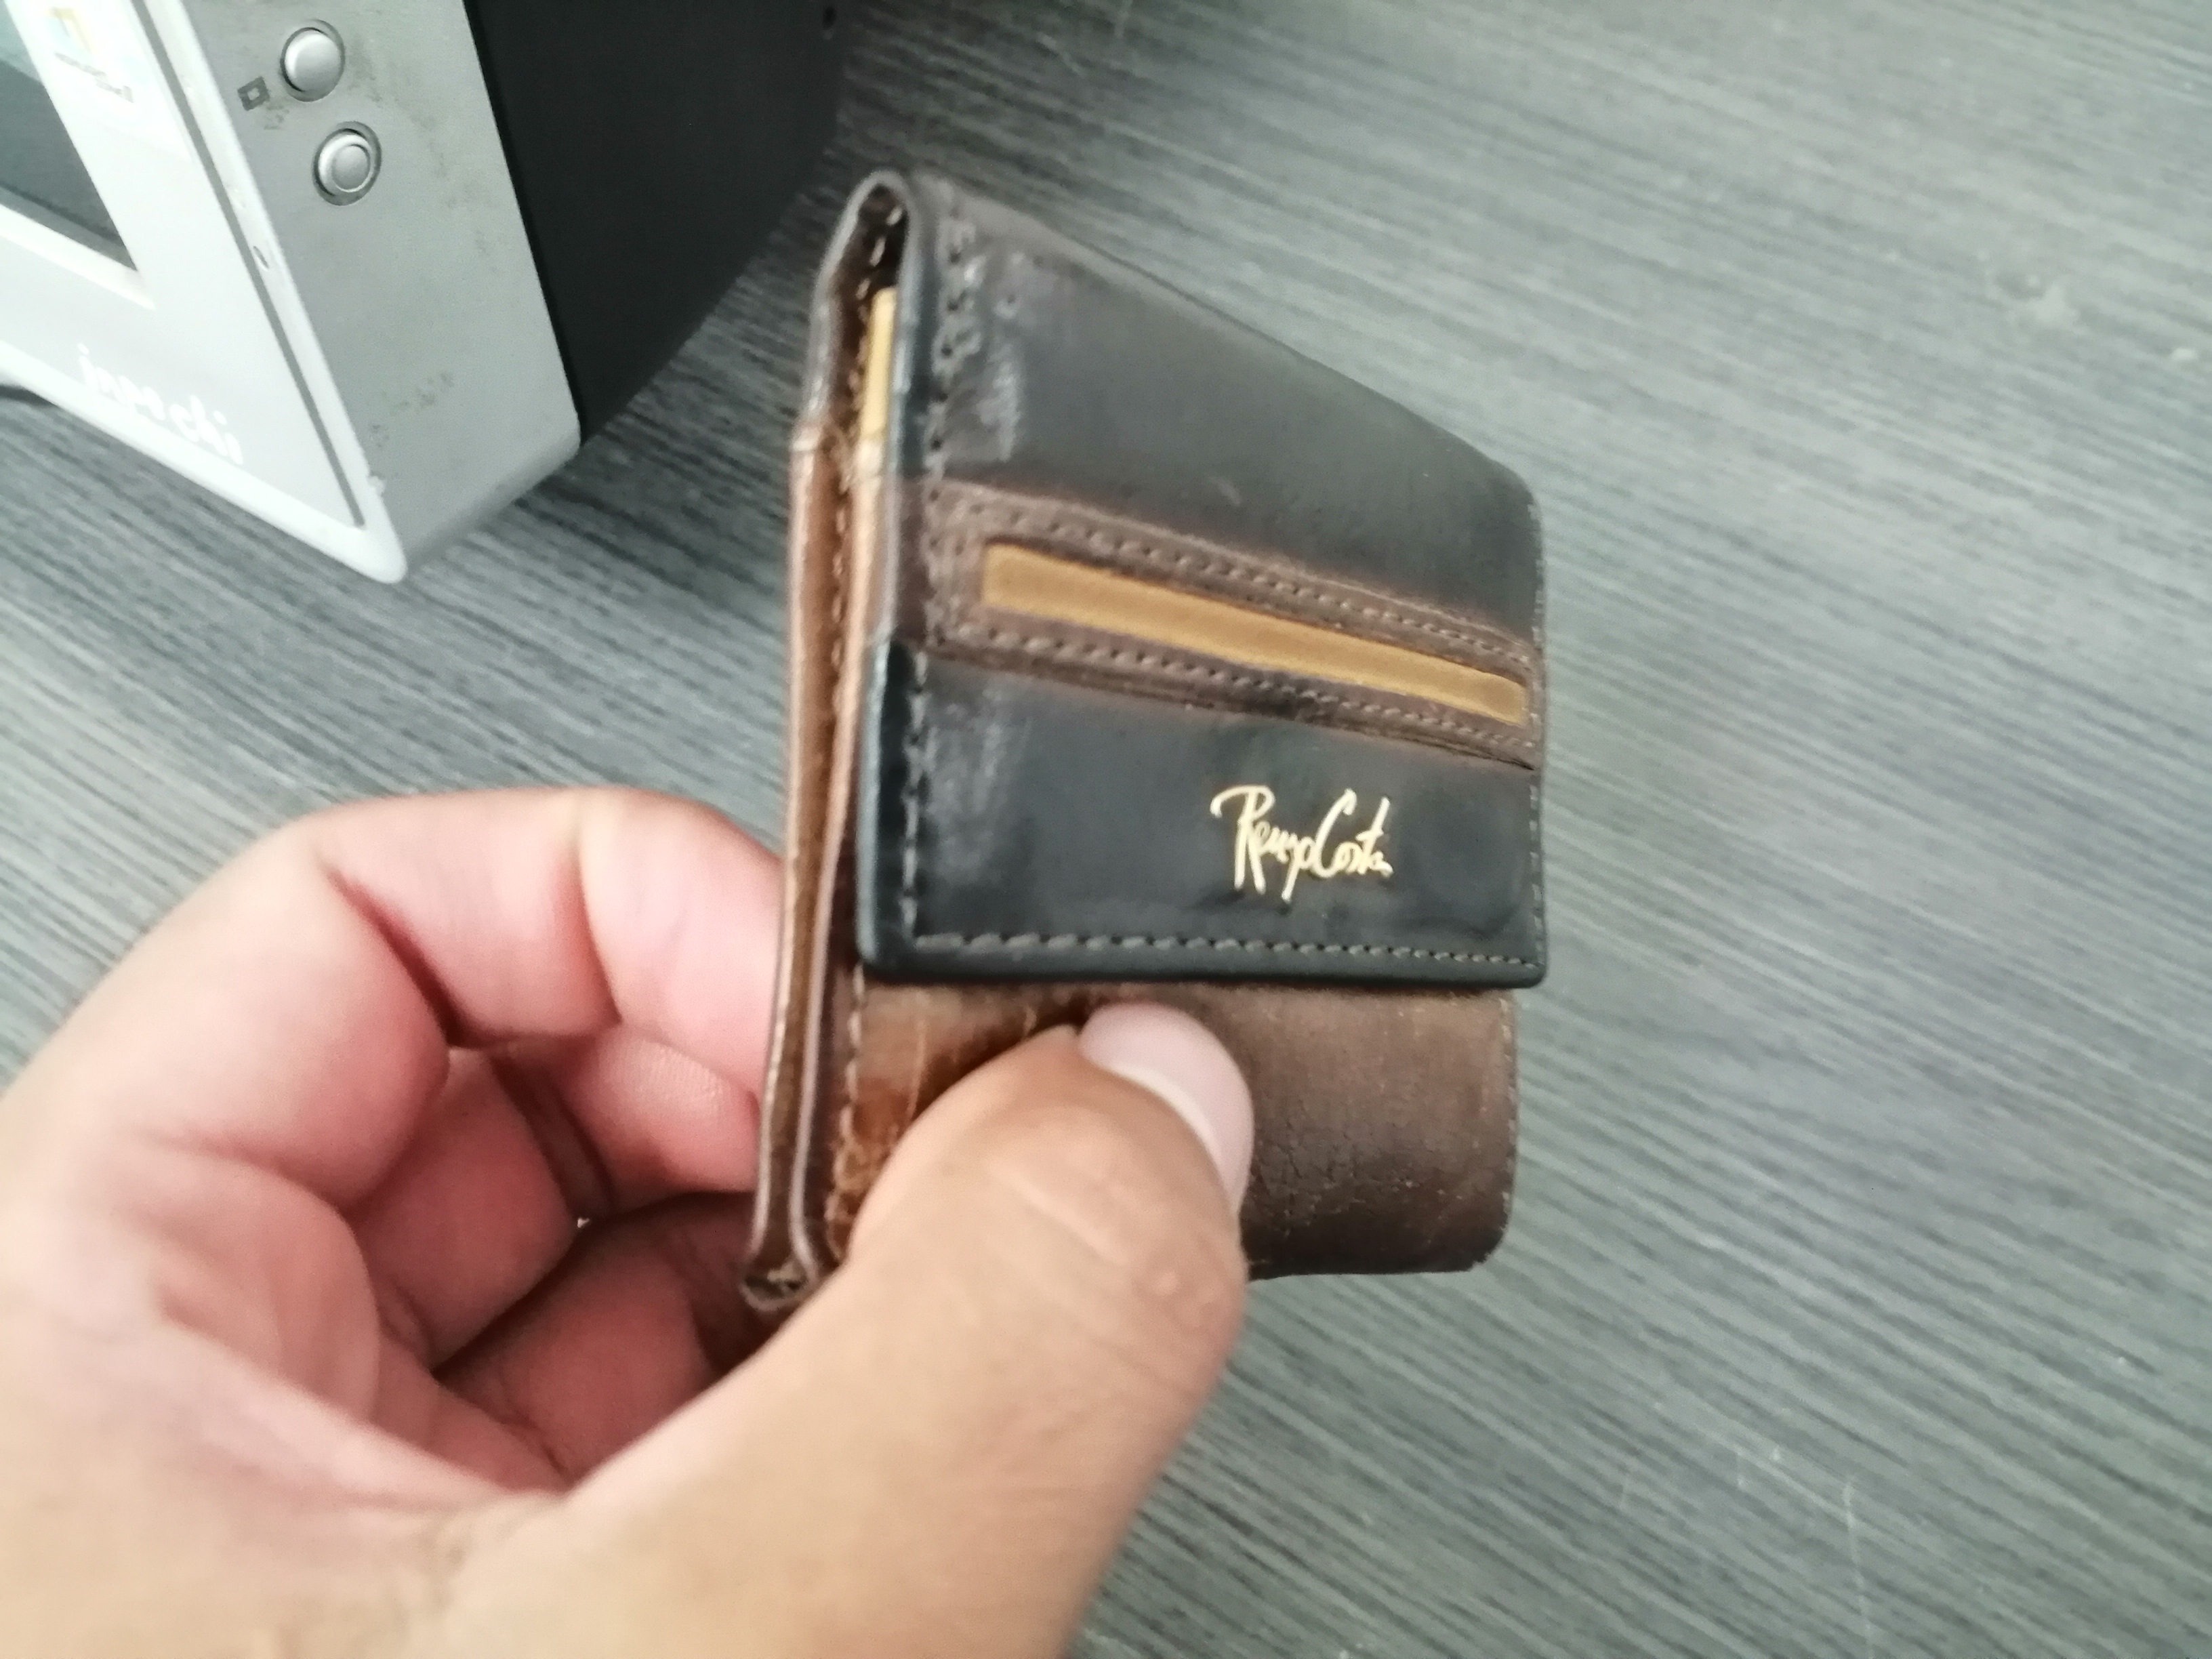monedero: (709, 115, 1566, 1331)
